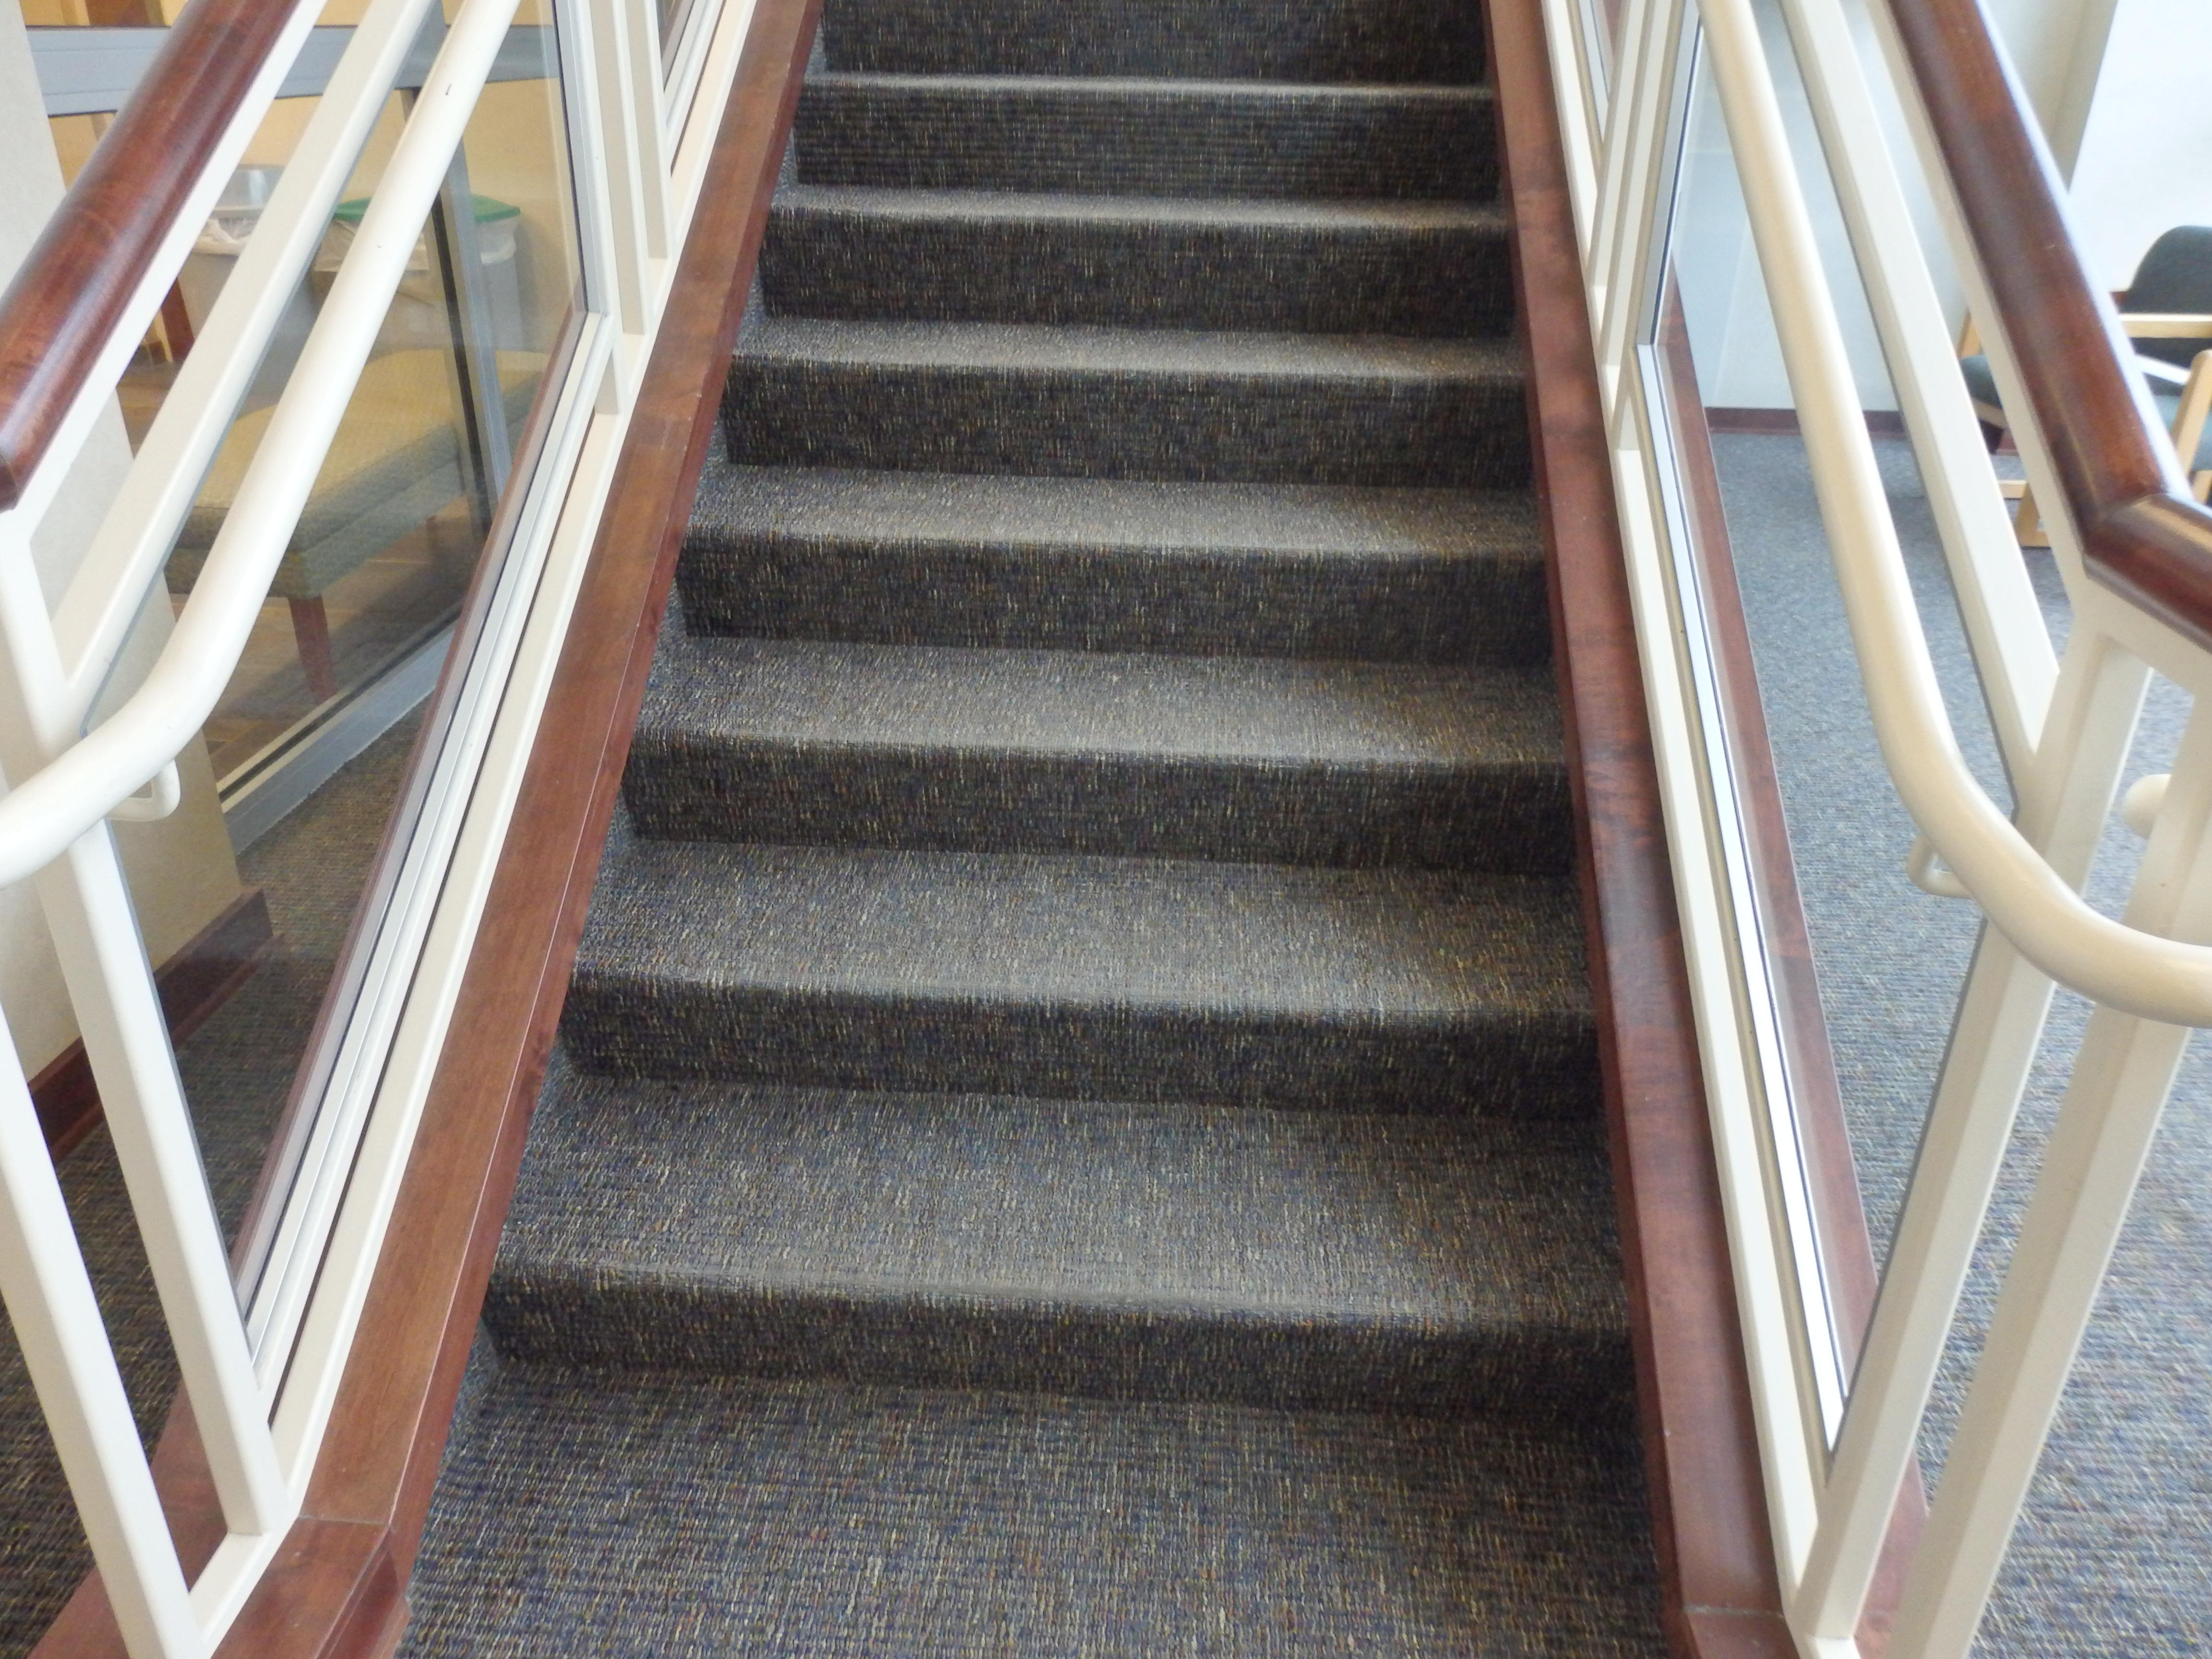stairs_up: (486, 17, 1676, 1471)
